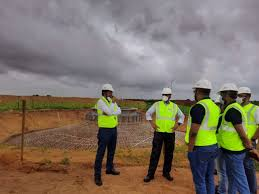arm: (230, 106, 258, 155), (144, 102, 157, 133), (173, 104, 186, 132)
face: (191, 86, 204, 99), (222, 89, 234, 102), (235, 91, 248, 103), (104, 89, 113, 97), (160, 94, 170, 101)
footwear: (161, 169, 174, 180), (93, 172, 103, 185), (142, 171, 155, 181), (105, 166, 121, 174)
glove: (248, 146, 259, 160)
helmet: (191, 77, 213, 94), (219, 80, 237, 94), (236, 84, 251, 96), (101, 82, 114, 92), (160, 86, 173, 95)
human: (217, 79, 257, 192), (184, 74, 222, 192), (141, 85, 185, 182), (88, 82, 123, 185)
leg: (227, 150, 251, 193), (189, 147, 209, 192), (142, 132, 160, 182), (91, 132, 107, 185), (161, 133, 176, 181), (105, 131, 121, 175)
novest: (152, 100, 181, 133), (96, 95, 119, 128)
vest: (190, 97, 221, 147), (220, 102, 248, 150), (153, 100, 180, 133), (96, 95, 119, 128)
